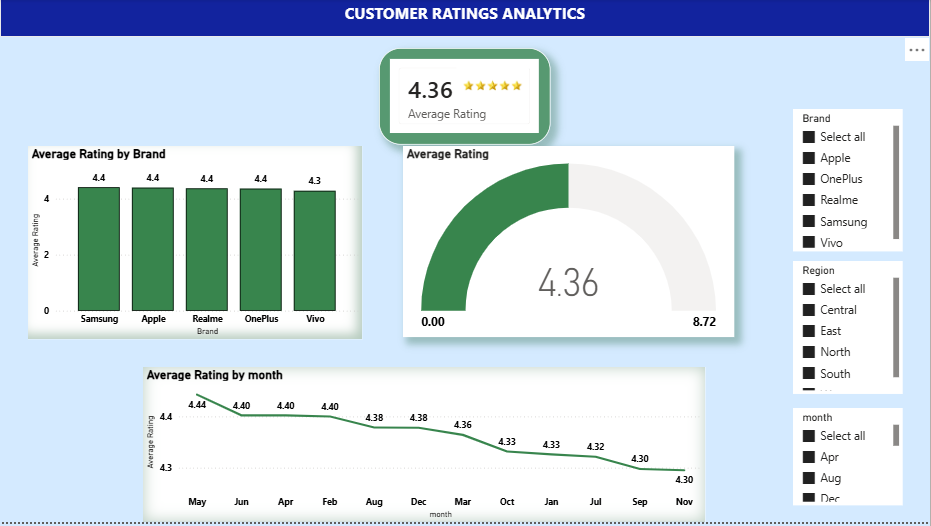

The dashboard page shown, as its layout file describes it:
{"tool":"powerbi","page":{"name":"Customer Ratings","canvas":[1280,720],"ordinal":2},"visuals":[{"type":"cardVisual","fields":{"Data":["date-sales data.Average Rating"]},"box":[521.4,67.1,235.7,132.9],"z":0},{"type":"clusteredColumnChart","fields":{"Category":["Mobile_Sales_500.Brand"],"Y":["date-sales data.Average Rating"]},"box":[38.6,202.9,460,265.7],"z":1000},{"type":"lineChart","fields":{"Category":["date-sales data.month"],"Y":["date-sales data.Average Rating"]},"box":[197.1,507.1,774.3,212.9],"z":2000},{"type":"gauge","fields":{"Y":["date-sales data.Average Rating"]},"box":[554.3,202.9,455.7,262.9],"z":3000},{"type":"slicer","fields":{"Values":["Mobile_Sales_500.Brand"]},"box":[1091.4,151.4,151.4,195.7],"z":4000},{"type":"slicer","fields":{"Values":["Mobile_Sales_500.Region"]},"box":[1091.4,360,151.4,182.9],"z":5000},{"type":"slicer","fields":{"Values":["date-sales data.month"]},"box":[1091.4,562.9,151.4,134.3],"z":6000},{"type":"actionButton","box":[1258,52.3,22,26.2],"z":7000},{"type":"textbox","box":[0,0,1280,52.3],"z":8000},{"type":"image","box":[384,88.1,587.7,63.3],"z":9000}]}

Visuals, with their boxes in screenshot pixels (x1, y1, x2, y2), scaled from the page's 1280x720 canvas onto the 931x526 screenshot:
cardVisual - date-sales data.Average Rating: bbox=(379, 49, 551, 146)
clusteredColumnChart - Mobile_Sales_500.Brand x date-sales data.Average Rating: bbox=(28, 148, 363, 342)
lineChart - date-sales data.month x date-sales data.Average Rating: bbox=(143, 370, 707, 525)
gauge - date-sales data.Average Rating: bbox=(403, 148, 735, 340)
slicer - Mobile_Sales_500.Brand: bbox=(794, 111, 904, 254)
slicer - Mobile_Sales_500.Region: bbox=(794, 263, 904, 397)
slicer - date-sales data.month: bbox=(794, 411, 904, 509)
actionButton: bbox=(915, 38, 930, 57)
textbox: bbox=(0, 0, 930, 38)
image: bbox=(279, 64, 707, 111)
